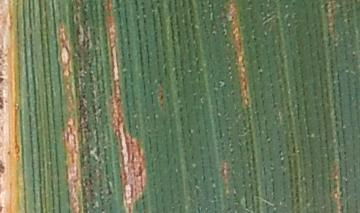tarspot: (156, 89, 165, 105)
